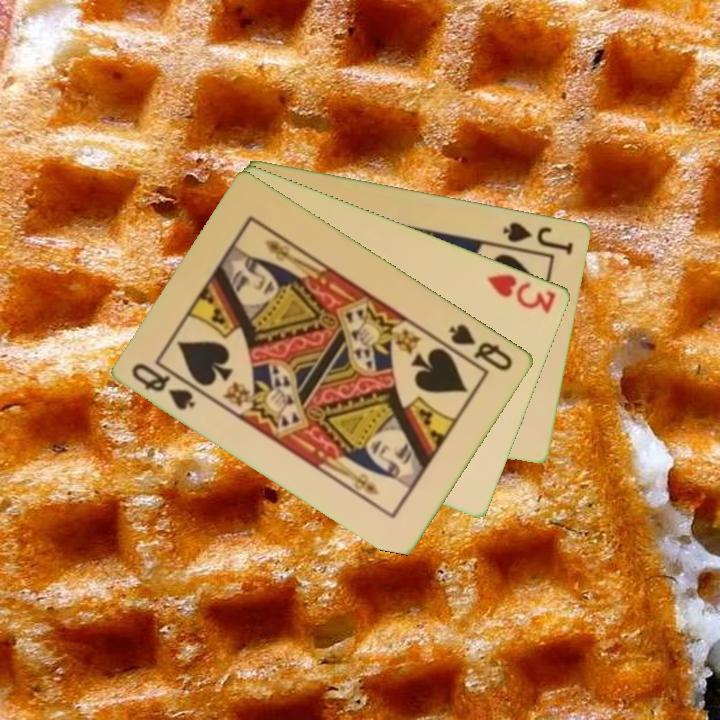3h: (483, 270, 559, 316)
Js: (499, 218, 577, 258)
Qs: (128, 359, 199, 413), (446, 320, 516, 374)
